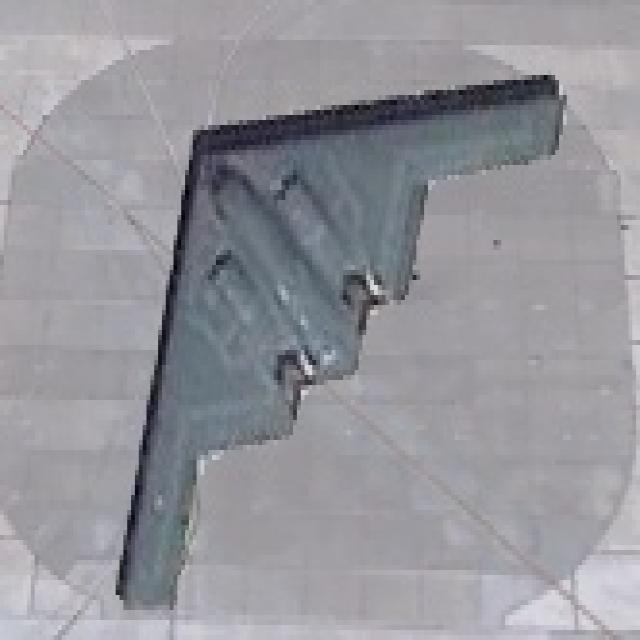B-2_TopDown: (108, 40, 571, 610)
